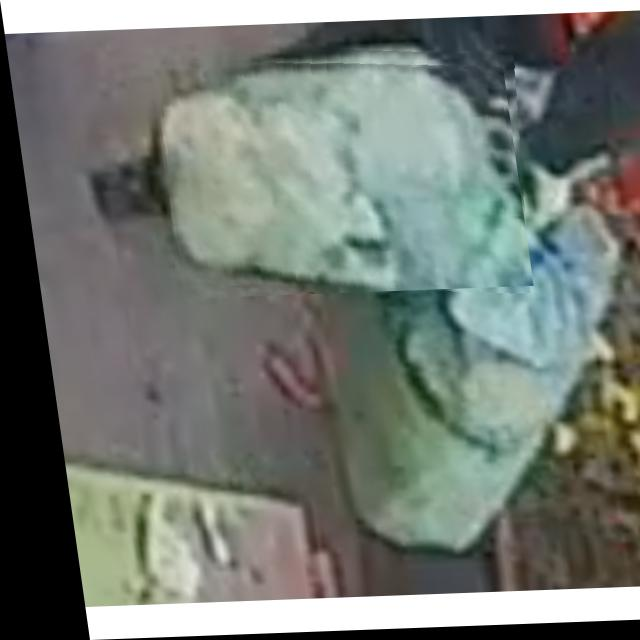general_trashbag: (164, 66, 521, 293)
